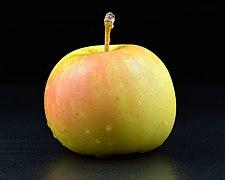Apple: (39, 10, 180, 158)
